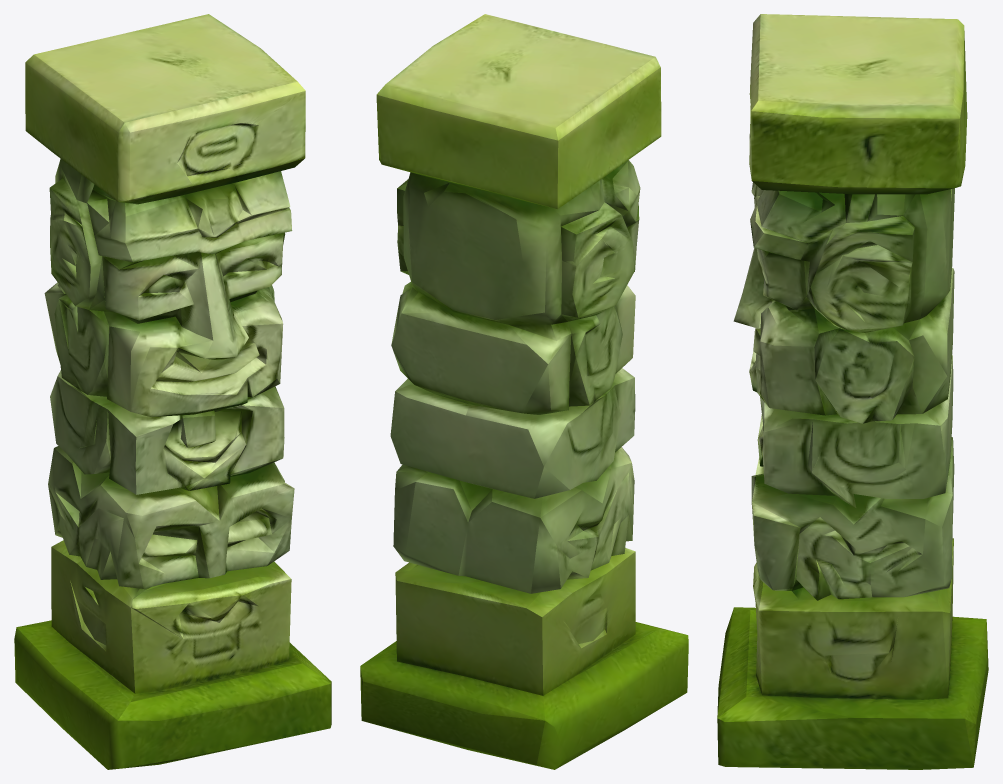
Rendered from jungleTotem.glb.
3 renders of one model, left to right at view 1: azimuth 30°, elevation 25°; view 2: azimuth 150°, elevation 25°; view 3: azimuth 270°, elevation 25°, orthographic. The views are drawn at different scales.
Visible parts, largest first — view 1: model; view 2: model; view 3: model.
Part boxes in pixels (x1=…): model: x1=14, y1=14, x2=331, y2=769; model: x1=360, y1=14, x2=688, y2=769; model: x1=717, y1=14, x2=988, y2=769.
Size of the model in its own units: 0.6879 by 1.89 by 0.7061.
1 material, 1 textured.
